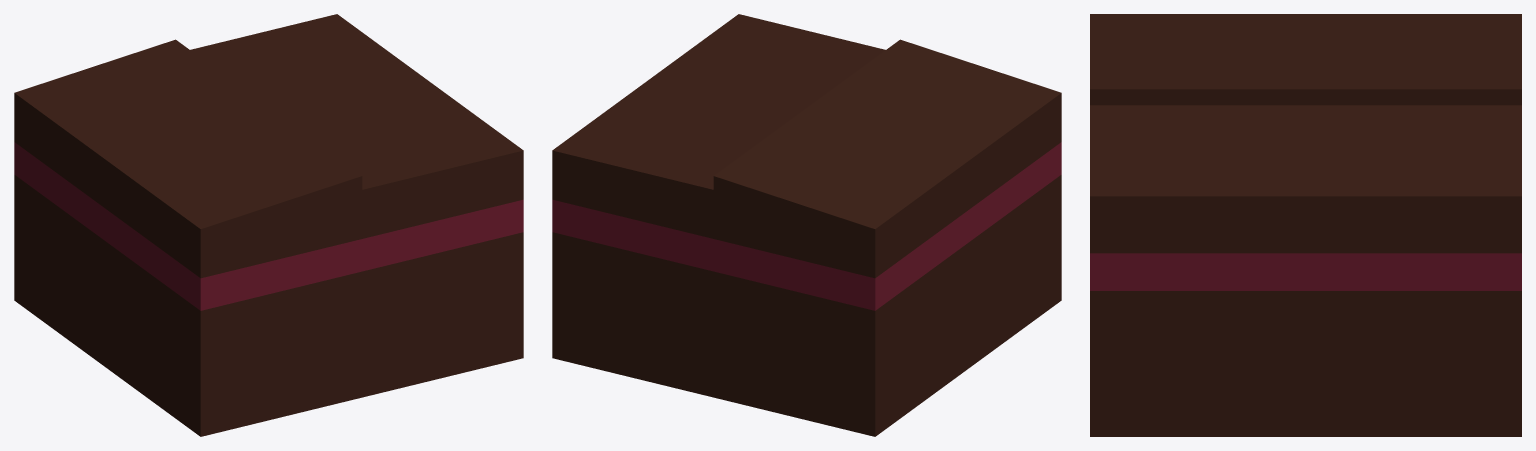
The model's file is cardboard.glb.
3 renders of one model, left to right at view 1: azimuth 30°, elevation 25°; view 2: azimuth 150°, elevation 25°; view 3: azimuth 270°, elevation 25°, orthographic. The views are drawn at different scales.
Visible parts, largest first — view 1: Plane; view 2: Plane; view 3: Plane.
Boxes of the visible parts, x1,y1,x2,y2 form: Plane: (14,14,523,436); Plane: (552,14,1061,436); Plane: (1090,14,1521,436).
Size of the model in its own units: 2 by 1.31 by 2.
